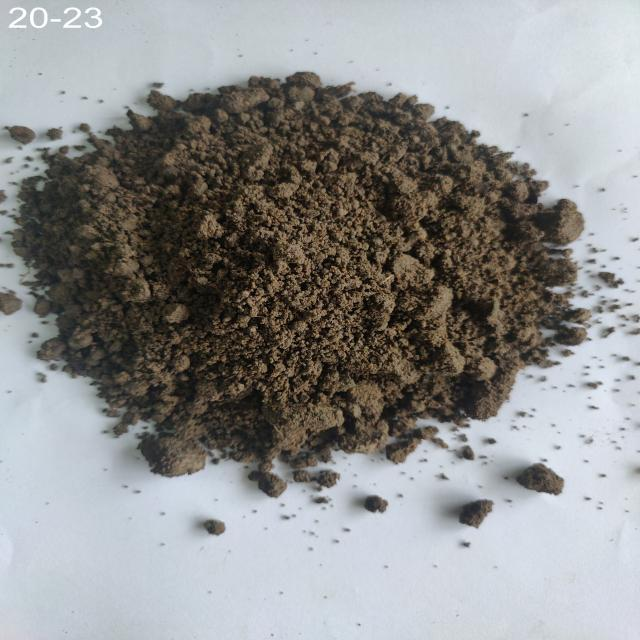soil: (147, 122, 470, 396)
